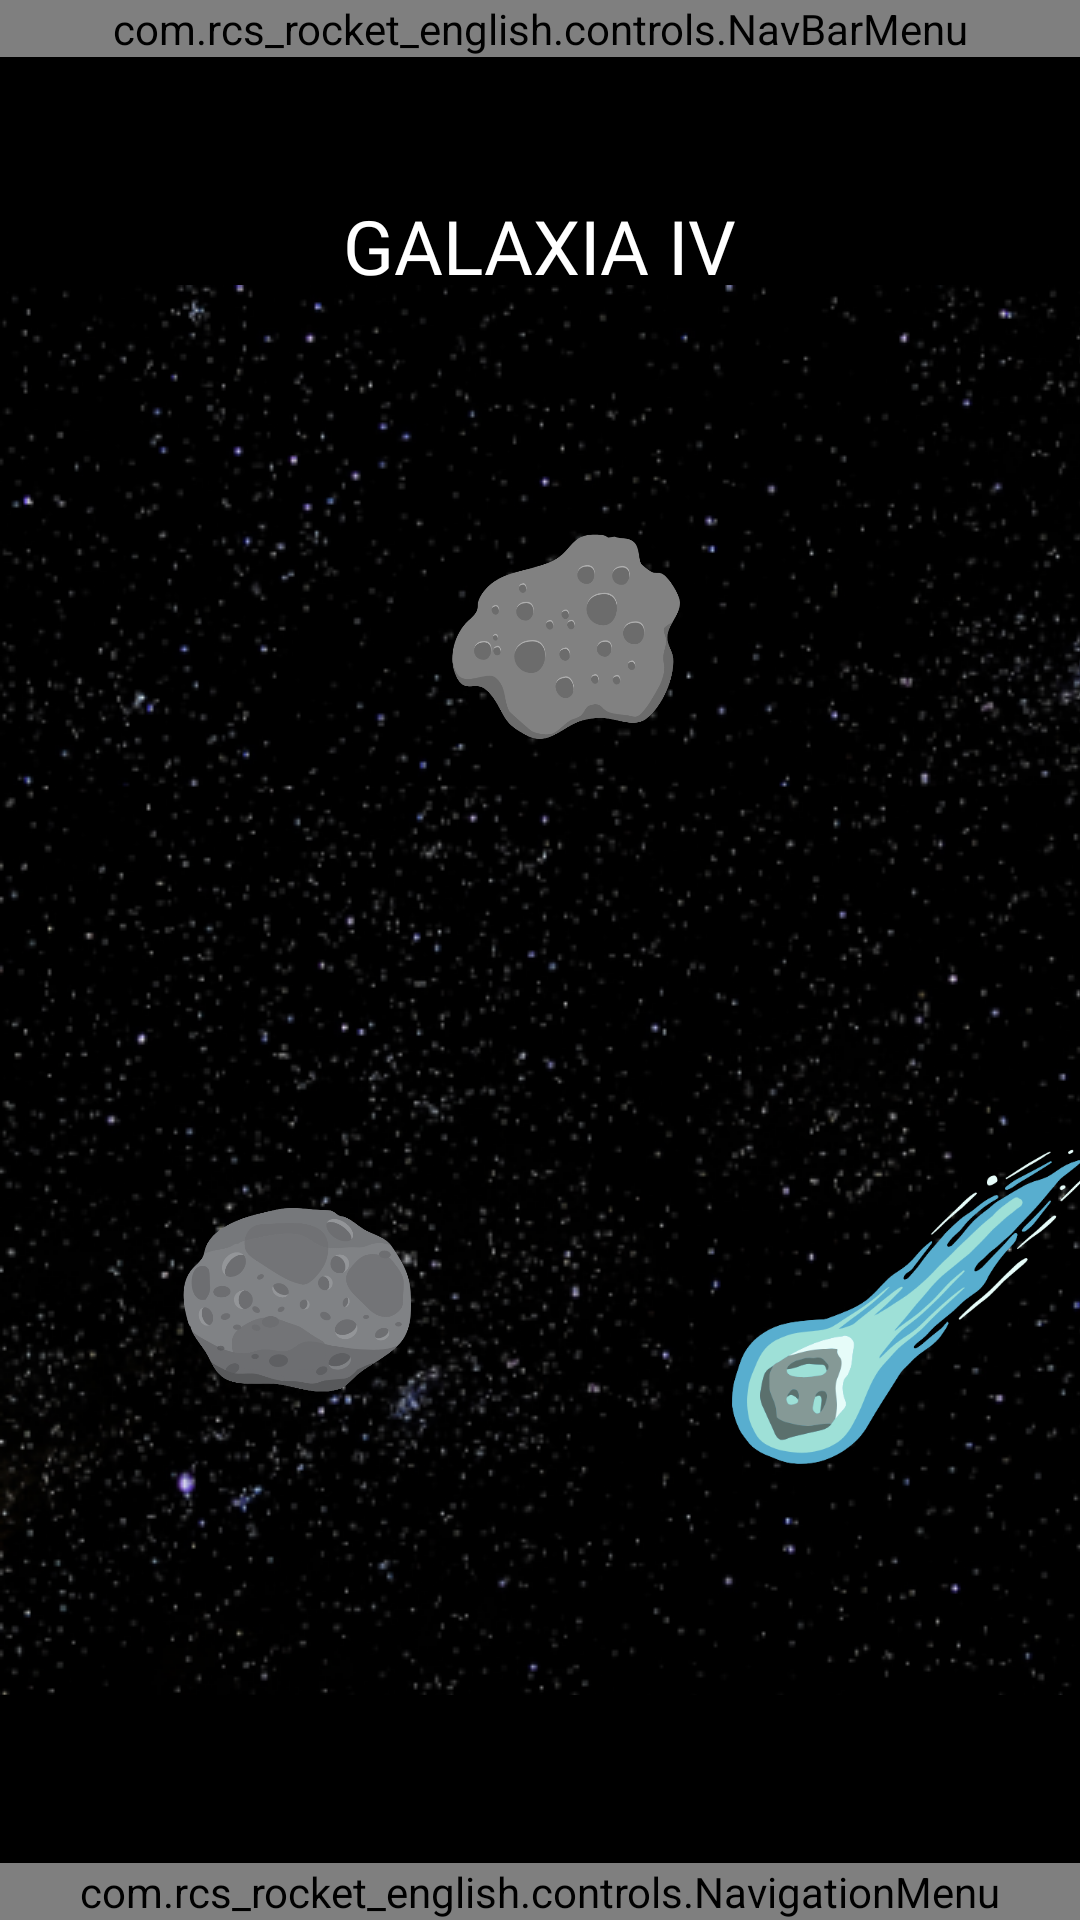

Icons on this 1080px×1920px Android screen, each with its box as bbox=(x1, y1, x2, y2):
ateroid four: bbox=(449, 530, 680, 756)
ateroid ten: bbox=(180, 1185, 411, 1416)
